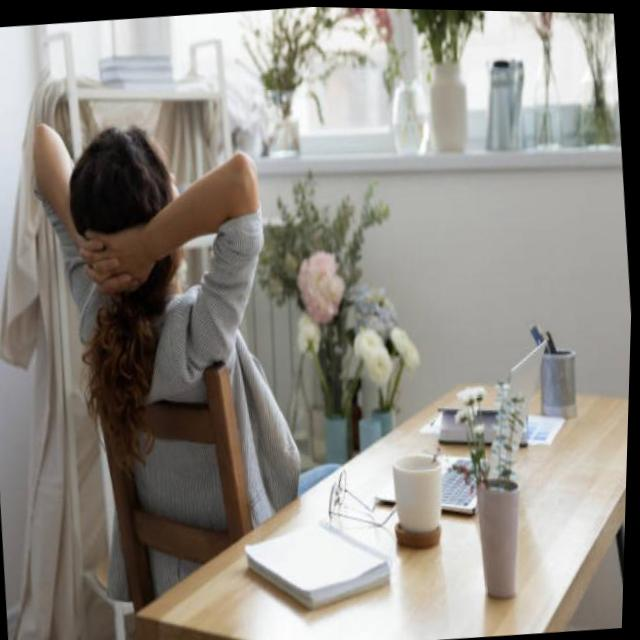no helmet: (49, 109, 215, 341)
